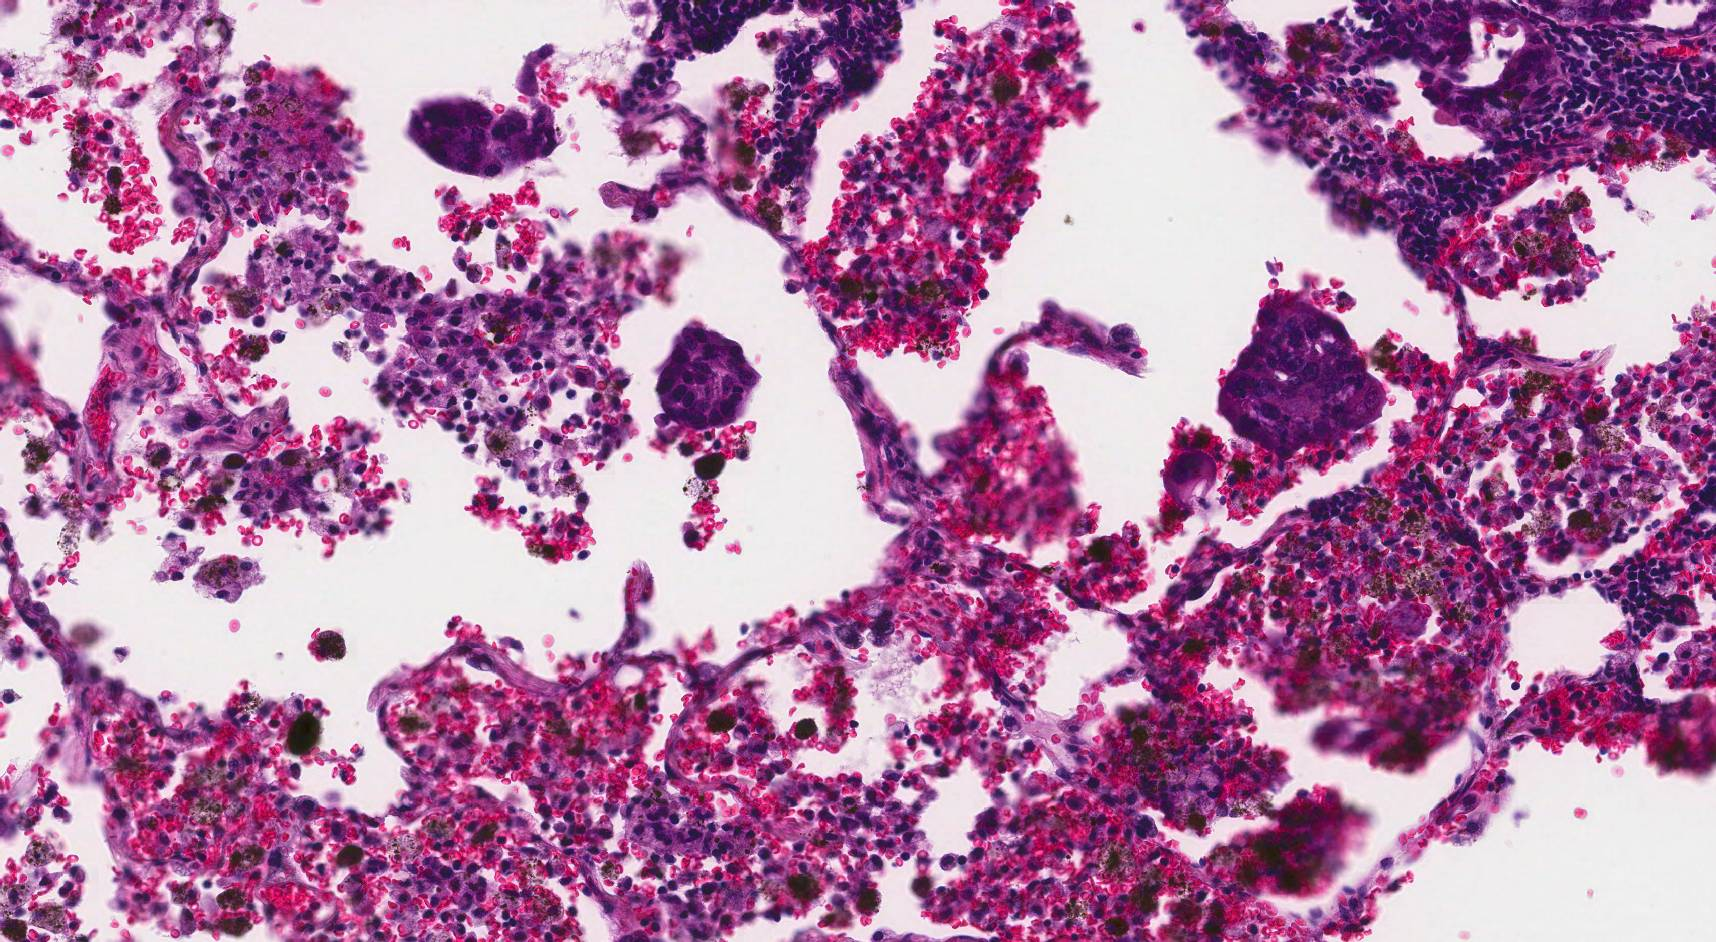stas: (1218, 293, 1390, 455), (403, 96, 561, 177), (655, 322, 764, 434)
